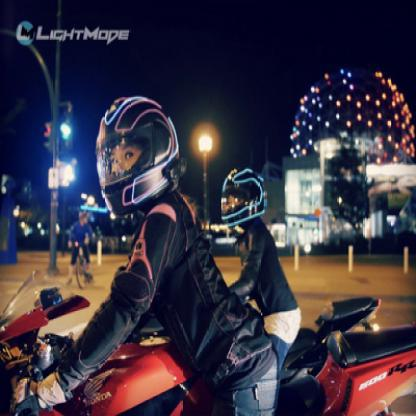Helmet: (88, 91, 192, 219), (219, 163, 276, 229)
